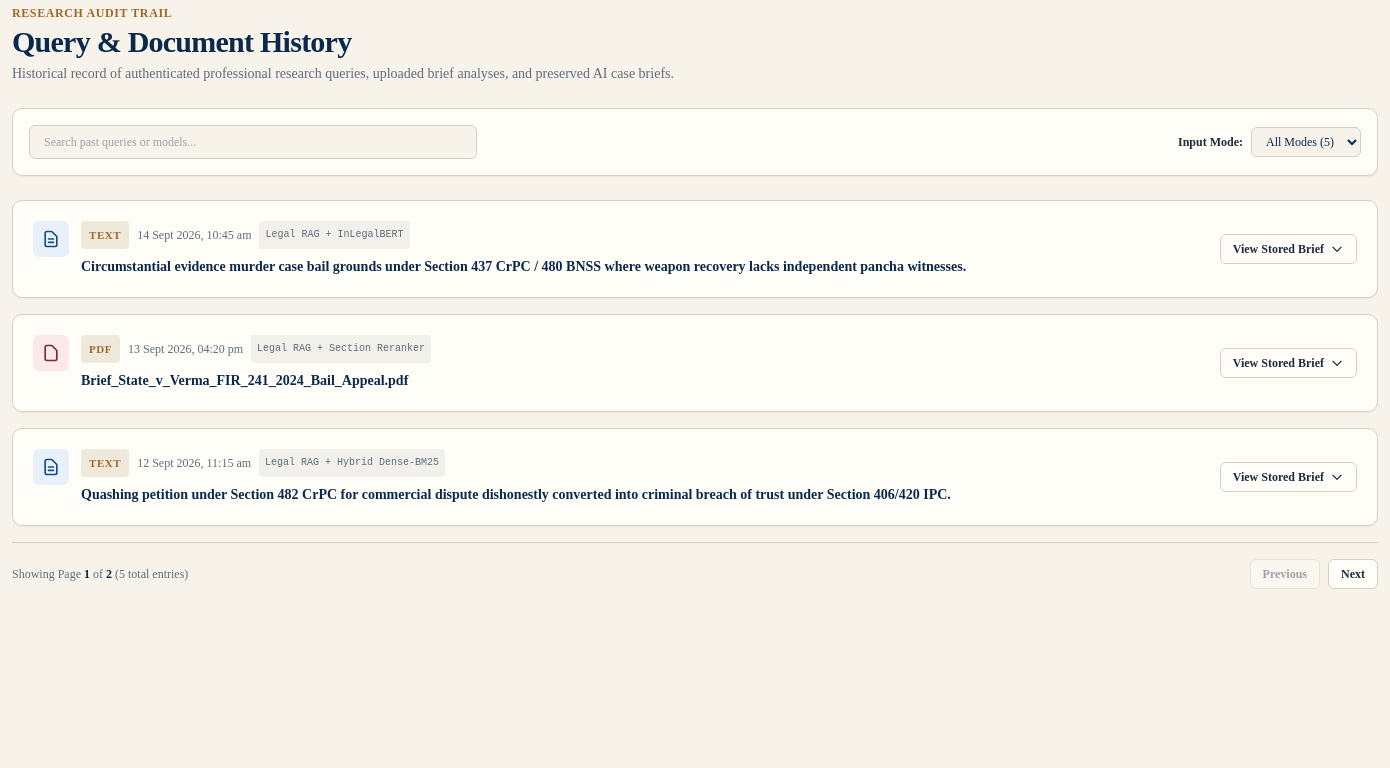
Professional Query History Page › filters history items by input mode selector
expect the element with test id "history-list" is shown: met, box [12,200,1378,589]
Select "PDF Uploads" in the dropdown labelled "Input Mode:" at (1306, 142), box [1251,127,1361,157]
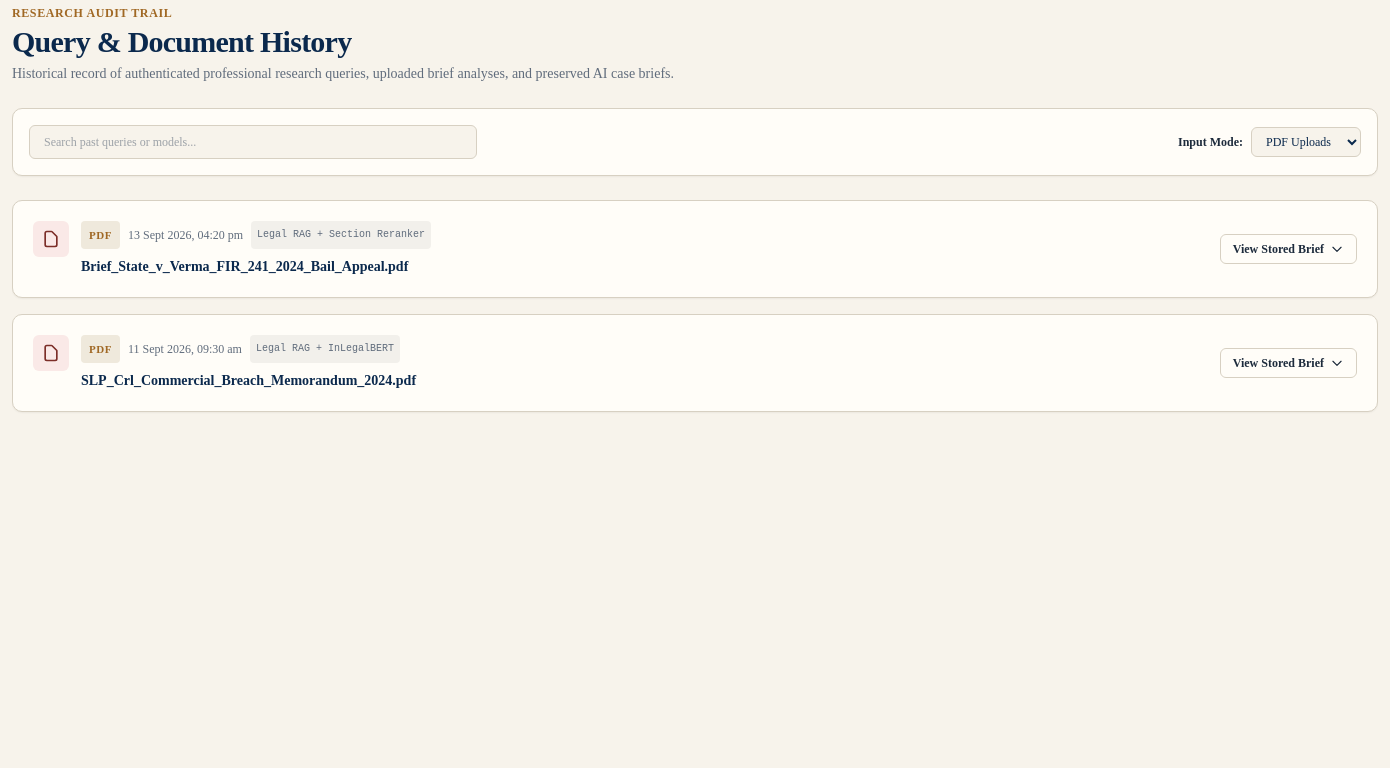
expect the text "Brief_State_v_Verma_FIR_241_2024_Bail_Appeal.pdf" is shown: met, box [81,259,408,274]
expect the text "Circumstantial evidence murder case" is gone: met
